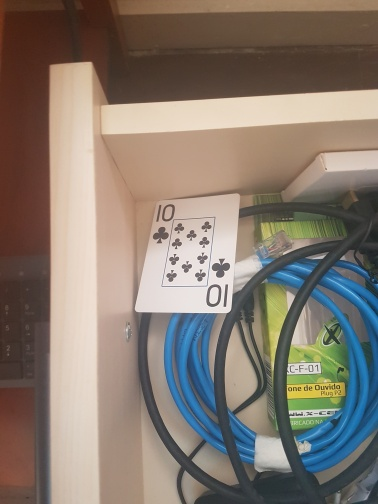ten: (136, 194, 242, 314)
